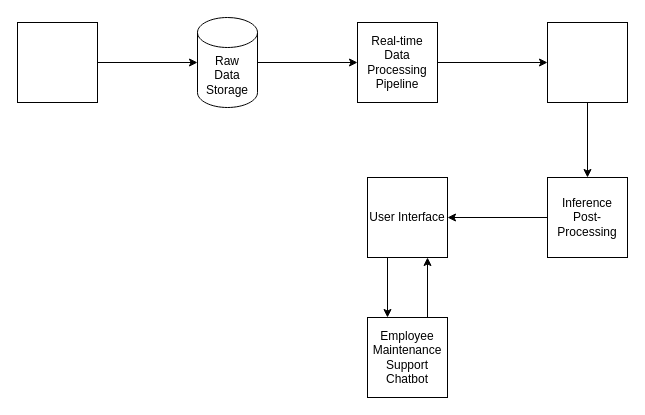
This 645x415 diagram has some shape labels left out. Here are the shapes that lost their labels. From the top down, the box of each, then its label:
(16, 22, 98, 102): Data Streaming
(546, 22, 628, 102): Model Inference Pipeline
